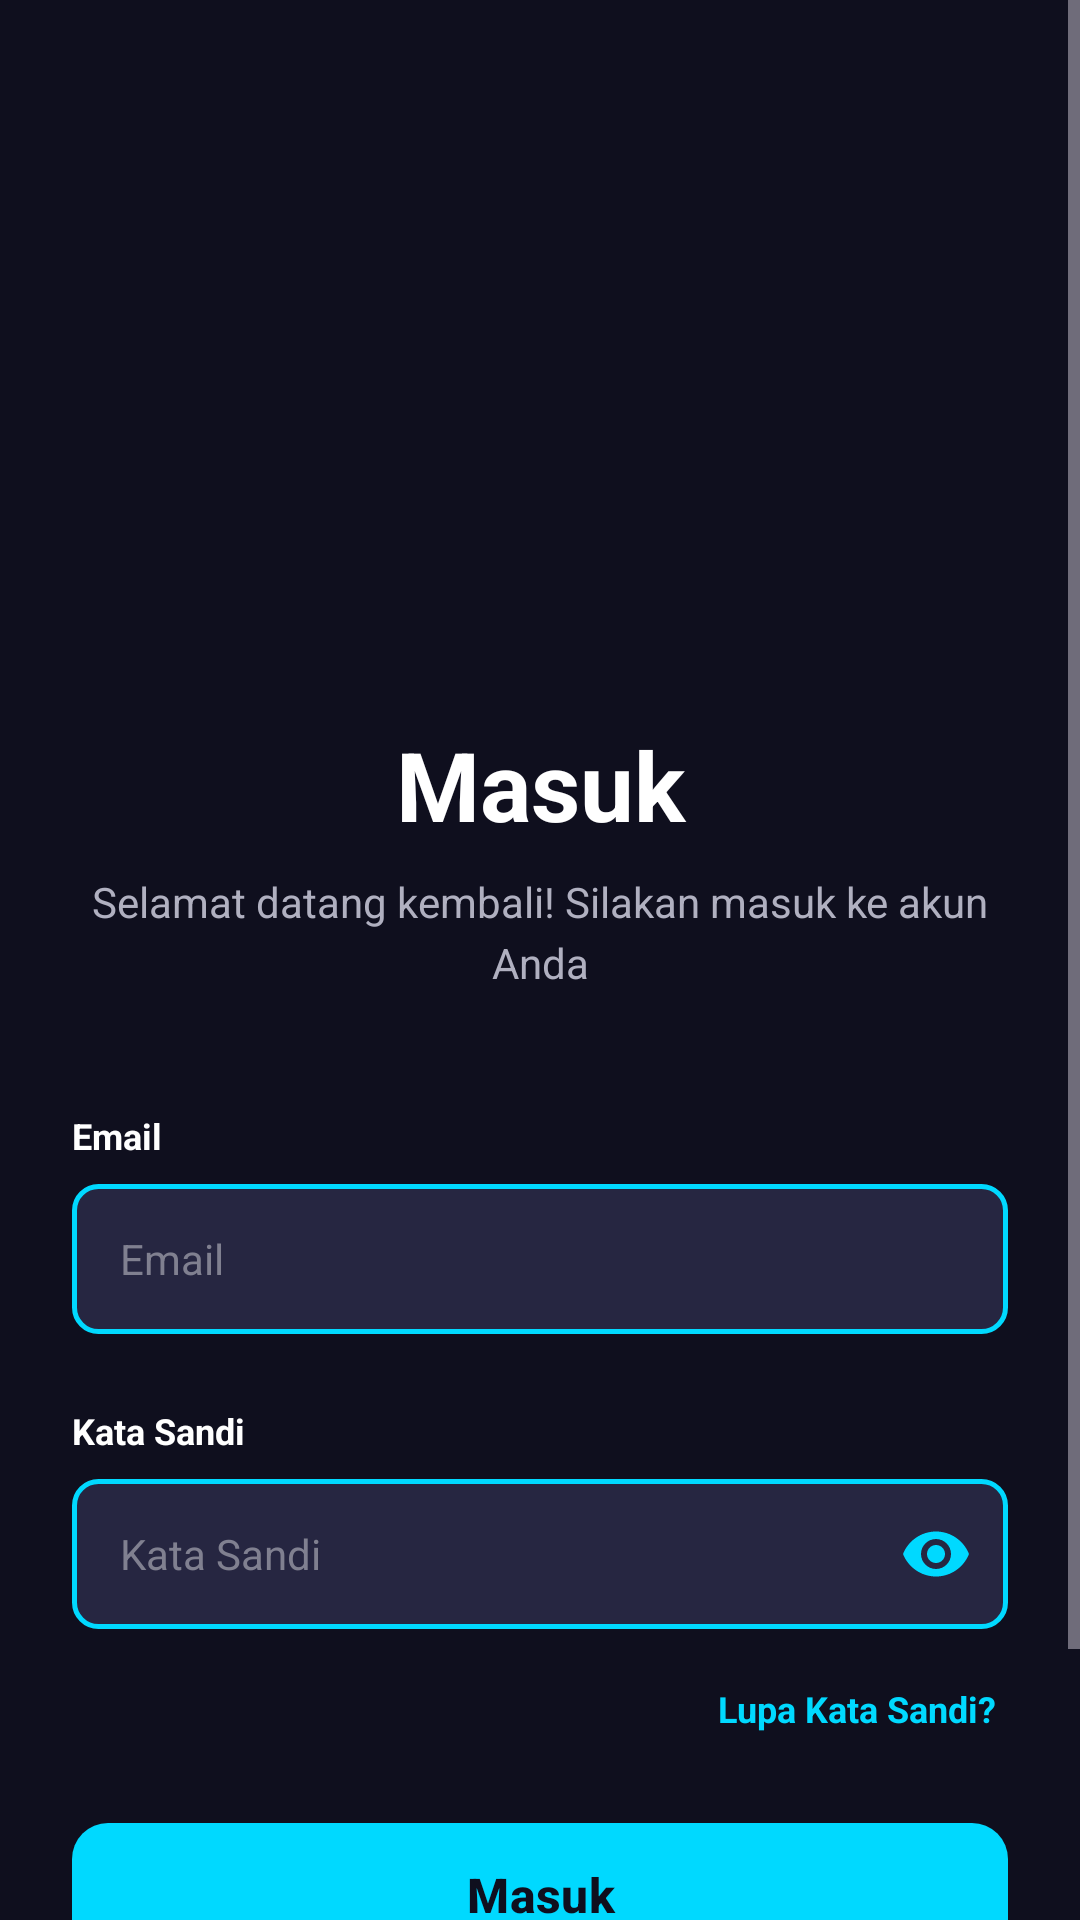

Icons on this 1080px x 1920px Android screen, each with the point to tap as point (x, y):
Toggle password: point (936, 1554)
